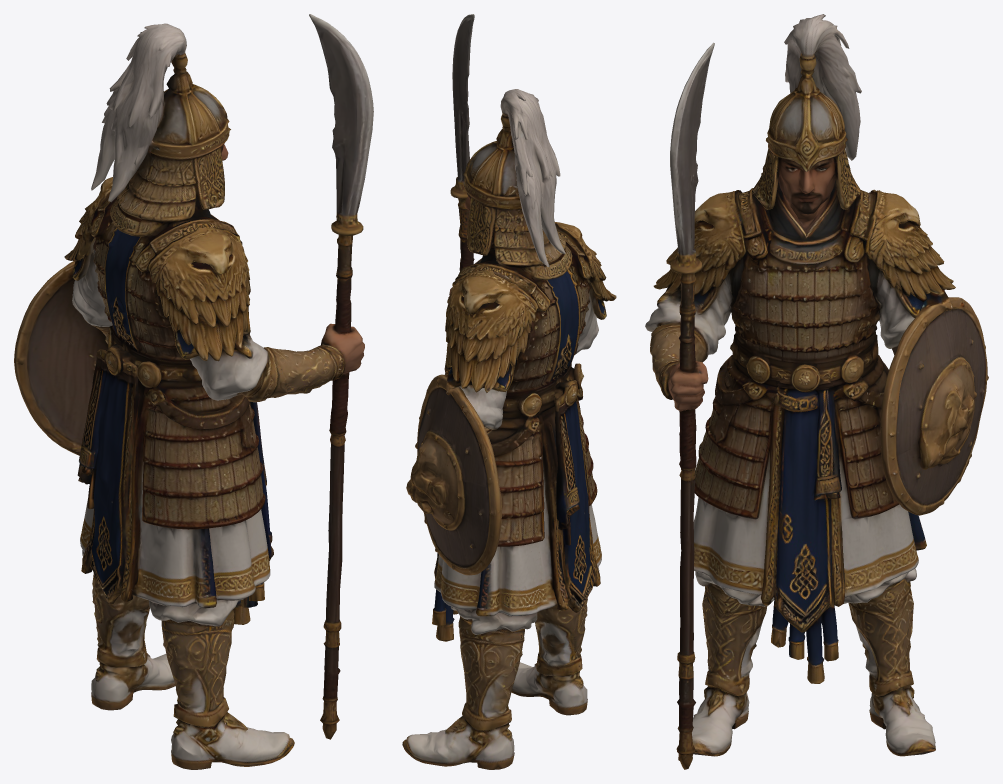
Rendered from vanguard_T7-tripo.glb.
3 views of the same model, side by side, from view 1: azimuth 30°, elevation 25°; view 2: azimuth 150°, elevation 25°; view 3: azimuth 270°, elevation 25° (orthographic). The views are drawn at different scales.
Parts seen in each view (by area): view 1: tripo_node_79d40213-034b-4b91-91f3-fc989b0b282a; view 2: tripo_node_79d40213-034b-4b91-91f3-fc989b0b282a; view 3: tripo_node_79d40213-034b-4b91-91f3-fc989b0b282a.
Boxes of the visible parts, x1=… form: tripo_node_79d40213-034b-4b91-91f3-fc989b0b282a: x1=14, y1=14, x2=373, y2=769; tripo_node_79d40213-034b-4b91-91f3-fc989b0b282a: x1=402, y1=14, x2=616, y2=769; tripo_node_79d40213-034b-4b91-91f3-fc989b0b282a: x1=645, y1=14, x2=988, y2=769.
Bounding box in the file's own units: 0.3069 × 1 × 0.4243.
Materials: 1 (1 with a texture image).
